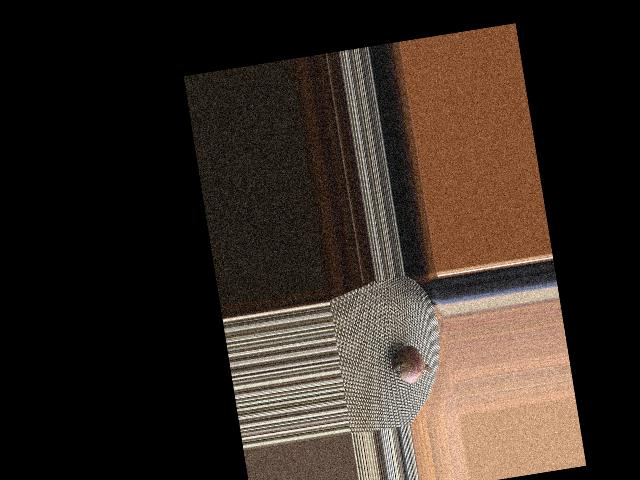beet: (386, 336, 439, 391)
